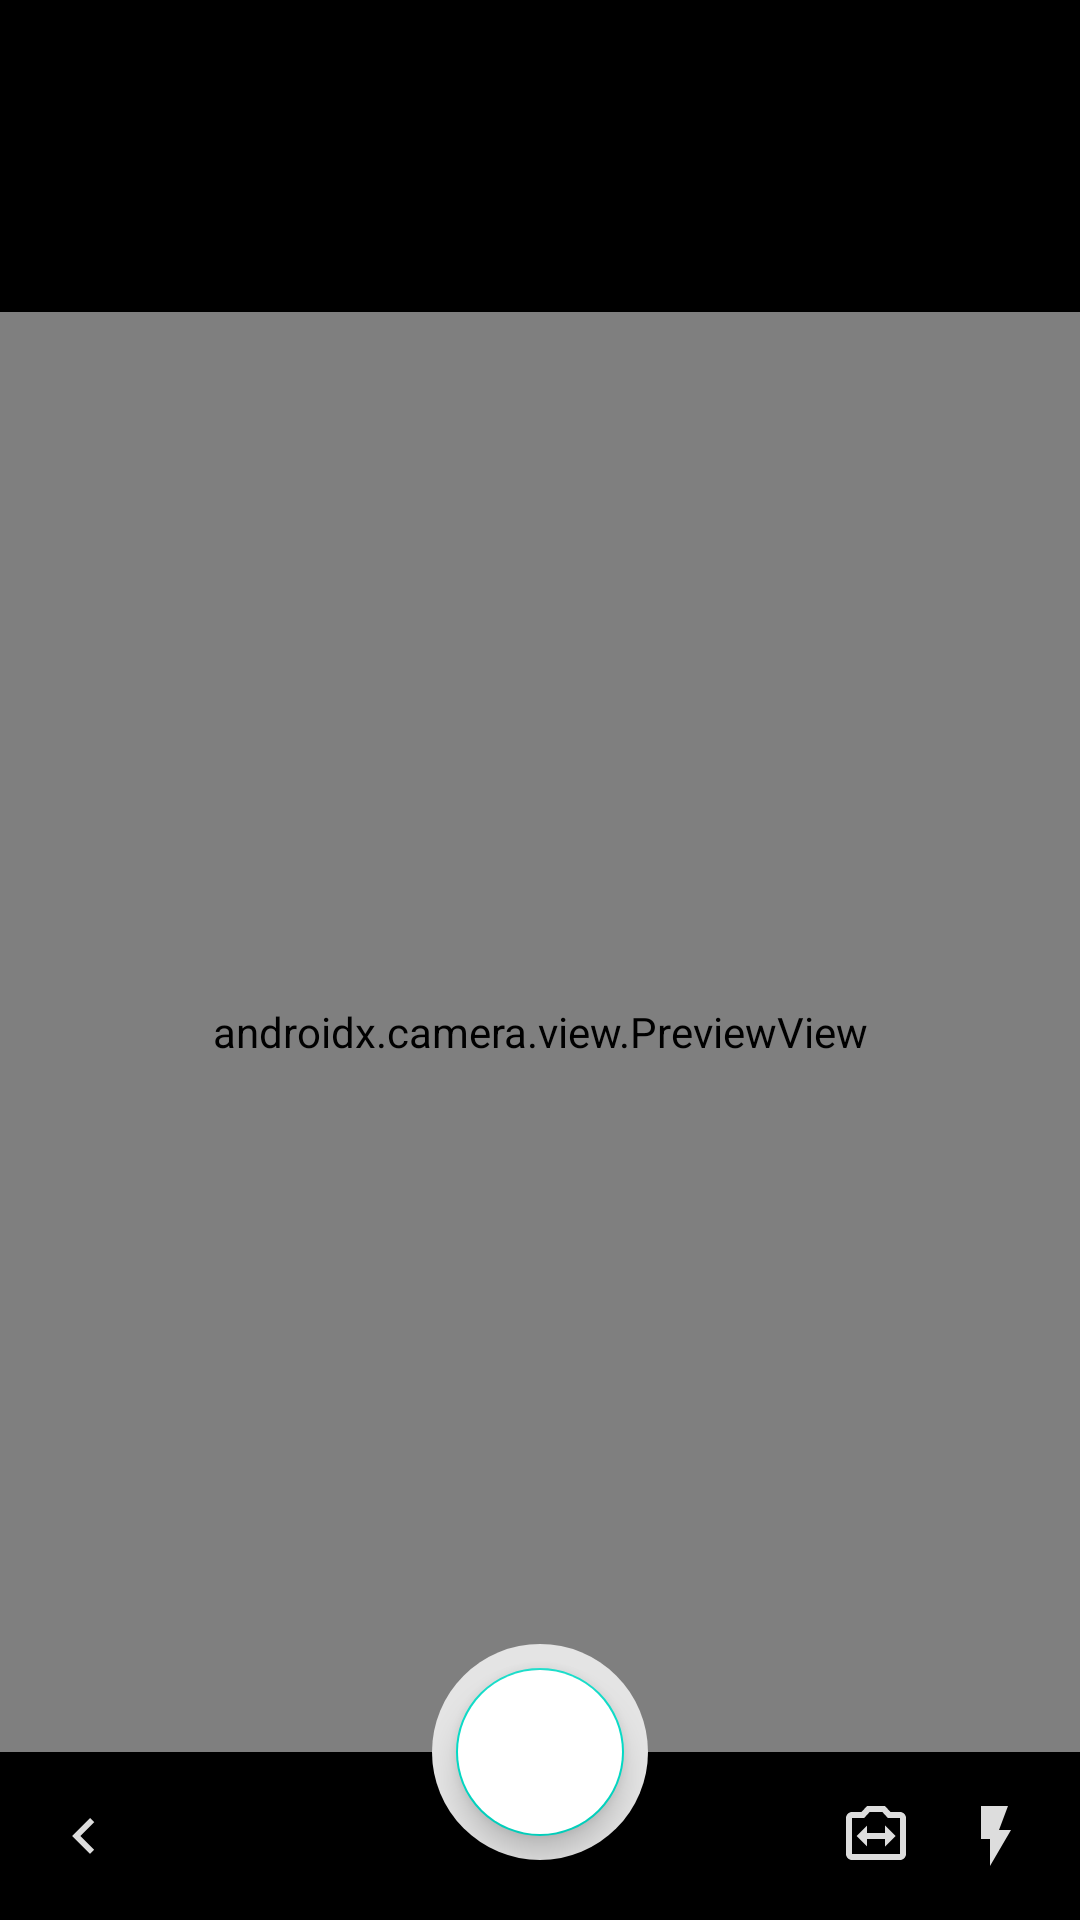

Icon bounding boxes for this 1080×1920 phone screenshot, format rect(x1, y1, x2, y2):
chevron left: rect(72, 1818, 94, 1854)
flash on: rect(981, 1806, 1011, 1866)
switch camera: rect(846, 1806, 906, 1860)
